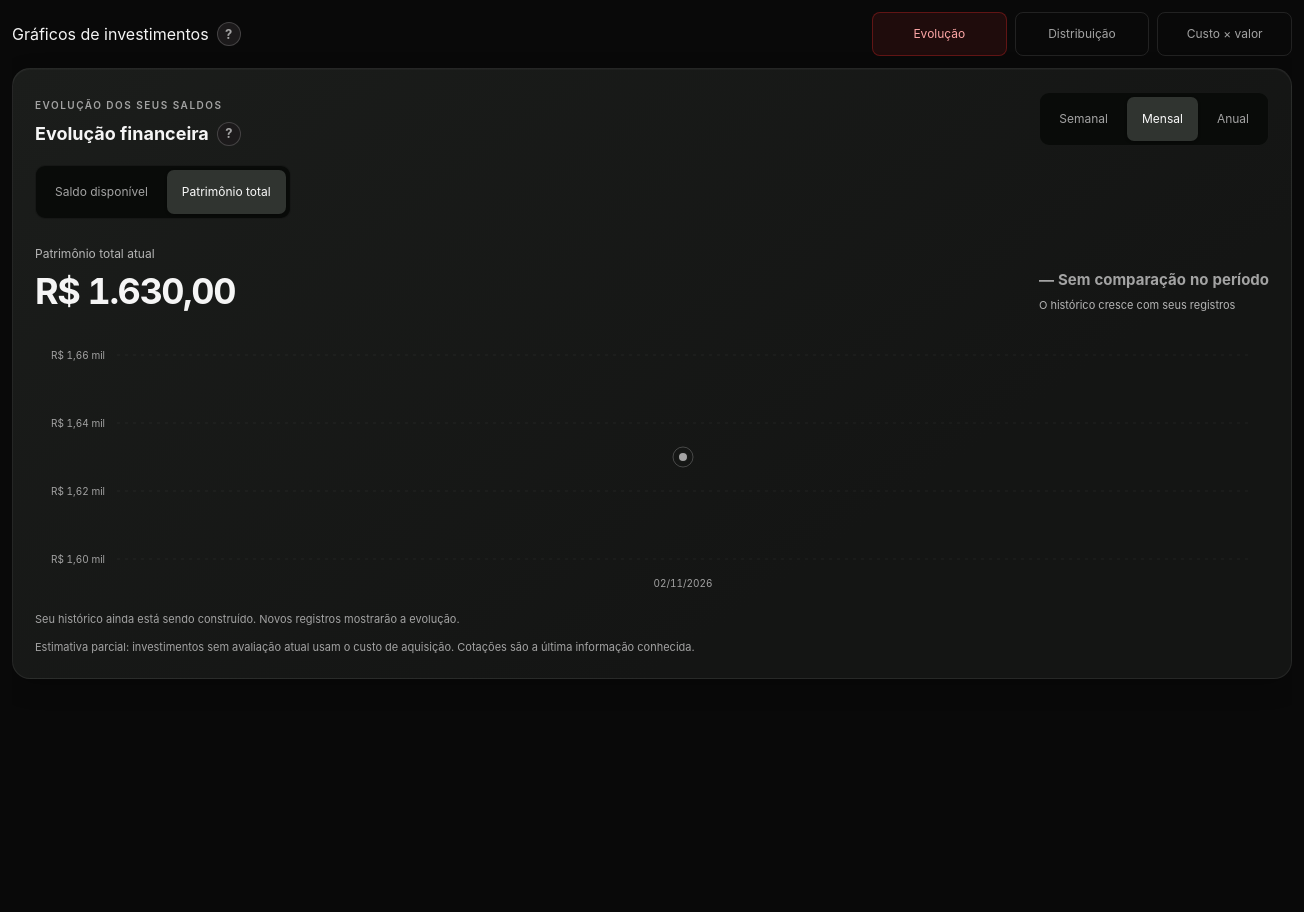
Test: custo × valor › marca em vermelho só as categorias com valor abaixo do custo
The width and height of the screenshot is (1304, 912).
Click the button "Custo × valor": (1225, 34) left=1157, top=12, right=1292, bottom=56
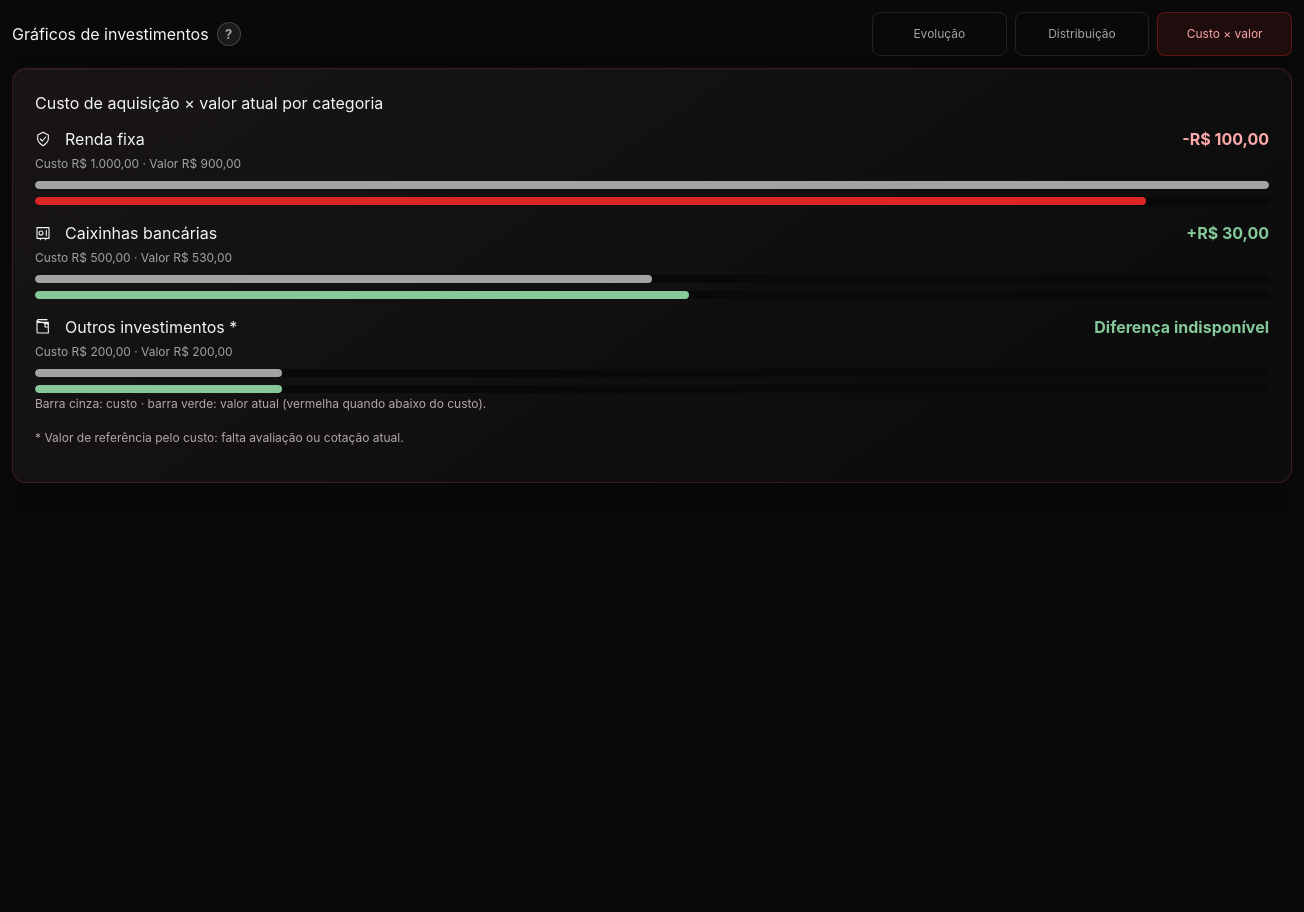
Now the list item that starts with "Outros investimentos" shows "Diferença indisponível", box left=1094, top=317, right=1269, bottom=337
